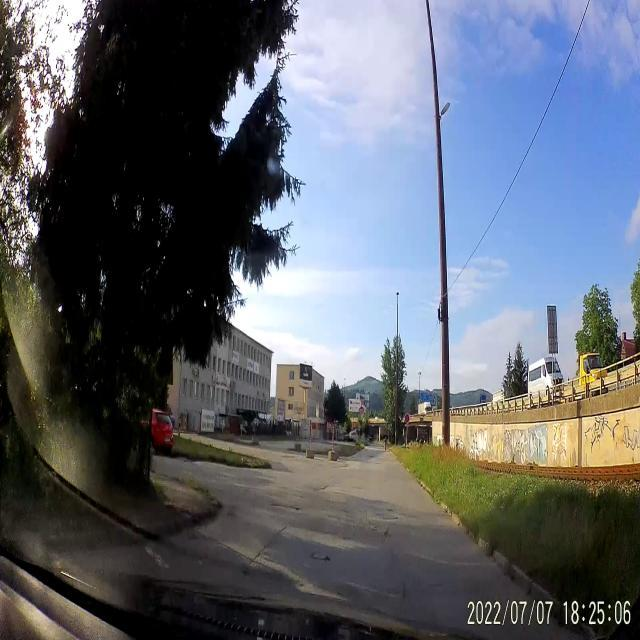Pothole: (270, 493, 304, 522), (310, 546, 333, 566), (314, 484, 342, 494), (381, 524, 394, 544), (352, 482, 363, 493), (384, 502, 394, 514)
